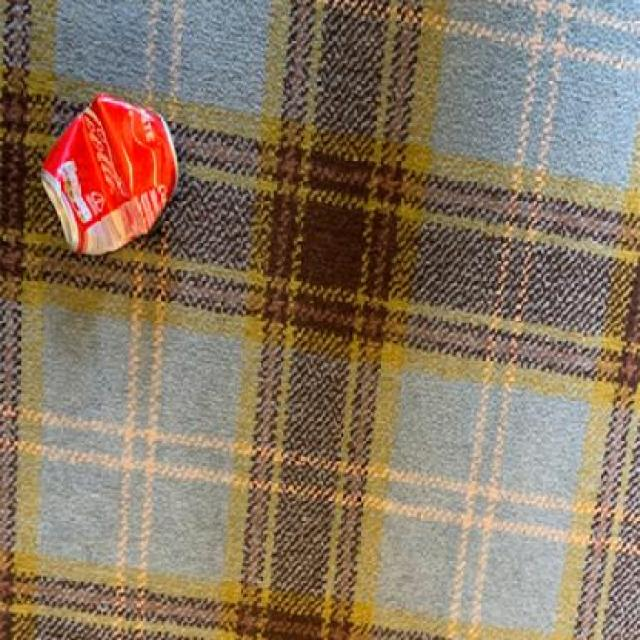Metal: (36, 93, 178, 255)
